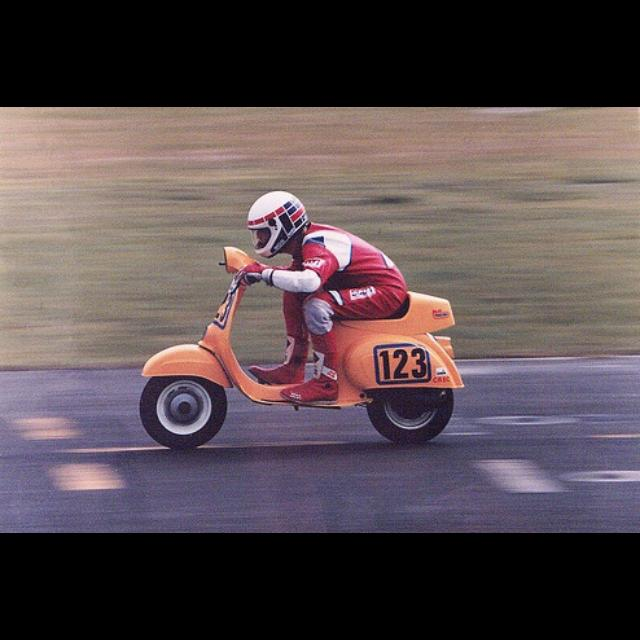With Helmet: (238, 185, 312, 261)
